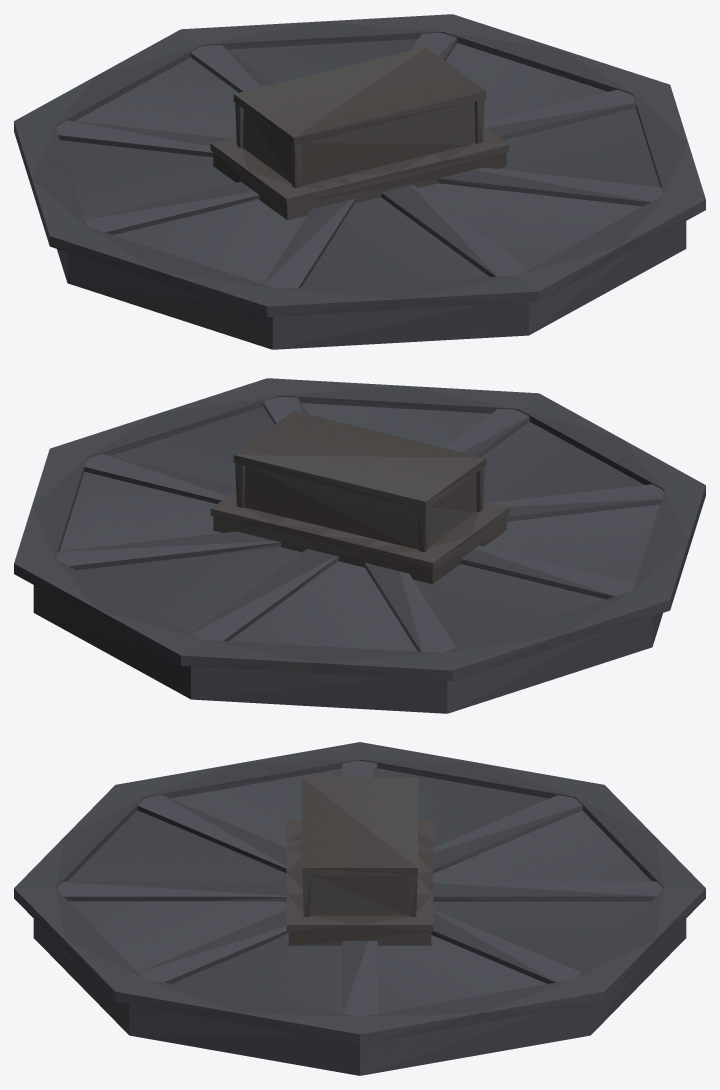
Rendered from Altar_LOD.fbx.
3 renders of one model, top to bottom at view 1: azimuth 30°, elevation 25°; view 2: azimuth 150°, elevation 25°; view 3: azimuth 270°, elevation 25°, orthographic. The views are drawn at different scales.
Visible parts, largest first — view 1: polySurface1311; view 2: polySurface1311; view 3: polySurface1311.
Part boxes in pixels (left/top/right/bottom): polySurface1311: left=14, top=14, right=705, bottom=349; polySurface1311: left=14, top=378, right=705, bottom=713; polySurface1311: left=14, top=742, right=705, bottom=1075.
Size of the model in its own units: 16.97 by 3.12 by 16.97.
